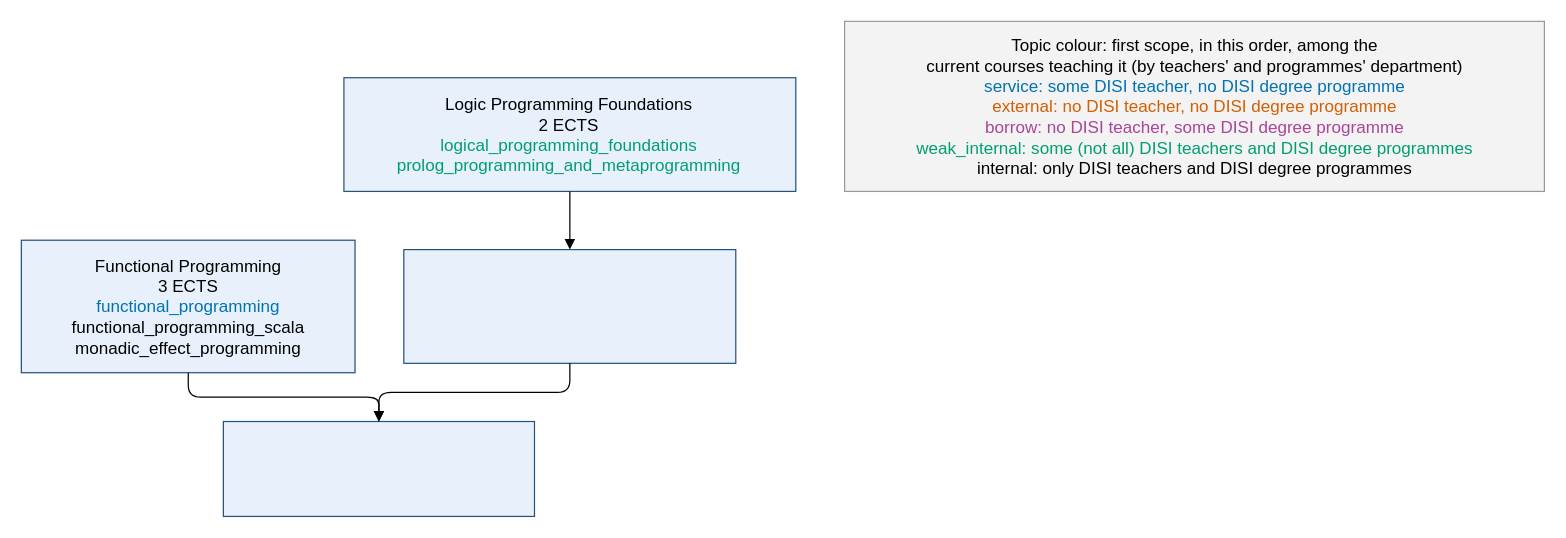
Image size: 1566x538. Some labels were removed from this diagram. The box of each missing label's shape, as (x1, y1, x2, y2) in pixels:
Advanced Logic Programming 2 ECTS prolog_grammars constraint_logic_programming: (403, 248, 736, 363)
Prolog and Java Integration 1 ECTS prolog_java_integration: (222, 420, 534, 516)
